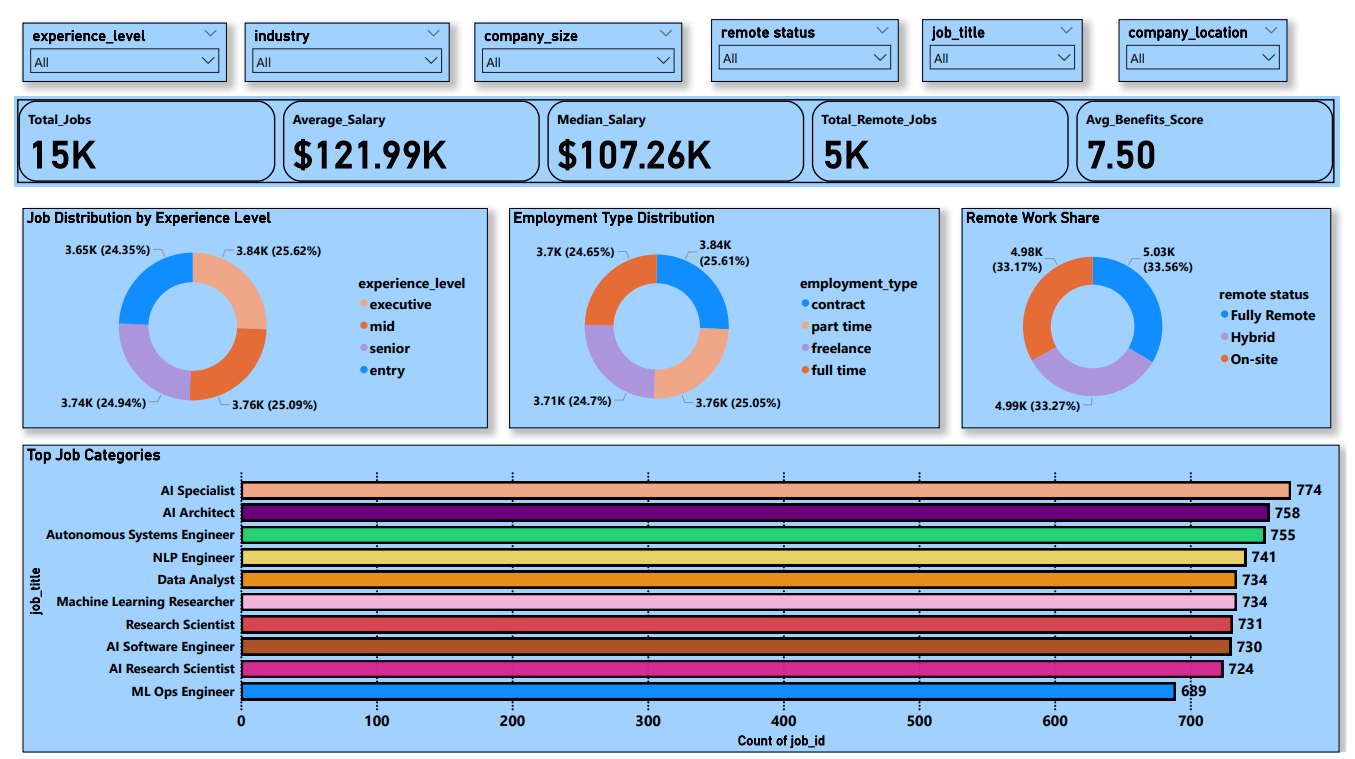

This screenshot's page, from the dashboard's own definition file:
{"tool":"powerbi","page":{"name":" Overview","canvas":[1920,1080],"ordinal":1},"visuals":[{"type":"cardVisual","fields":{"Data":["data.Total_Jobs","data.Average_Salary","data.Median_Salary","data.Total_Remote_Jobs","data.Avg_Benefits_Score"]},"box":[0,134.4,1910.4,130.7],"z":0},{"type":"donutChart","title":"Job Distribution by Experience Level","fields":{"Category":["data.experience_level"],"Y":["CountNonNull(data.job_id)"]},"box":[12.9,296.3,669.9,316.6],"z":1},{"type":"donutChart","title":"Employment Type Distribution","fields":{"Category":["data.employment_type"],"Y":["CountNonNull(data.job_id)"]},"box":[714.1,296.3,620.2,316.6],"z":2},{"type":"donutChart","title":"Remote Work Share","fields":{"Category":["data.remote status"],"Y":["CountNonNull(data.job_id)"]},"box":[1365.7,296.3,531.9,316.6],"z":3},{"type":"clusteredBarChart","title":"Top Job Categories","fields":{"Category":["data.job_title"],"Y":["CountNonNull(data.job_id)"]},"box":[12.9,636.8,1897.6,443.6],"z":4},{"type":"slicer","fields":{"Values":["data.experience_level"]},"box":[12.9,29.4,294.5,84.7],"z":5},{"type":"slicer","fields":{"Values":["data.industry"]},"box":[333.1,29.4,294.5,84.7],"z":6},{"type":"slicer","fields":{"Values":["data.company_size"]},"box":[664.4,29.4,298.2,84.7],"z":7},{"type":"slicer","fields":{"Values":["data.remote status"]},"box":[1004.9,23.9,270.6,90.2],"z":8},{"type":"slicer","fields":{"Values":["data.job_title"]},"box":[1308.6,23.9,231.9,90.2],"z":9},{"type":"slicer","fields":{"Values":["data.company_location"]},"box":[1592,23.9,242.9,90.2],"z":10}]}

Visuals, with their boxes in screenshot pixels (x1, y1, x2, y2), scaled from the page's 1920x1080 canvas onto the 1355x759 screenshot:
cardVisual - data.Total_Jobs x data.Average_Salary: region(0, 94, 1348, 186)
"Job Distribution by Experience Level" donutChart: region(9, 208, 482, 431)
"Employment Type Distribution" donutChart: region(504, 208, 942, 431)
"Remote Work Share" donutChart: region(964, 208, 1339, 431)
"Top Job Categories" clusteredBarChart: region(9, 448, 1348, 758)
slicer - data.experience_level: region(9, 21, 217, 80)
slicer - data.industry: region(235, 21, 443, 80)
slicer - data.company_size: region(469, 21, 679, 80)
slicer - data.remote status: region(709, 17, 900, 80)
slicer - data.job_title: region(924, 17, 1087, 80)
slicer - data.company_location: region(1124, 17, 1295, 80)
